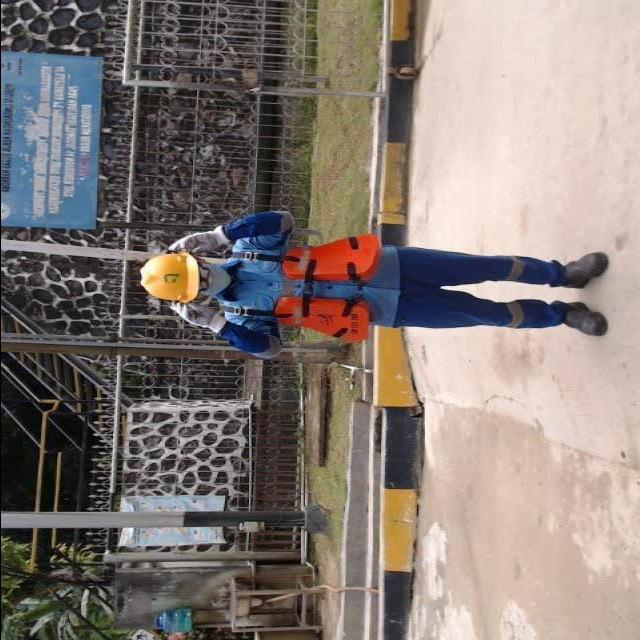helmet: (134, 247, 202, 306)
jacket: (228, 232, 380, 350)
